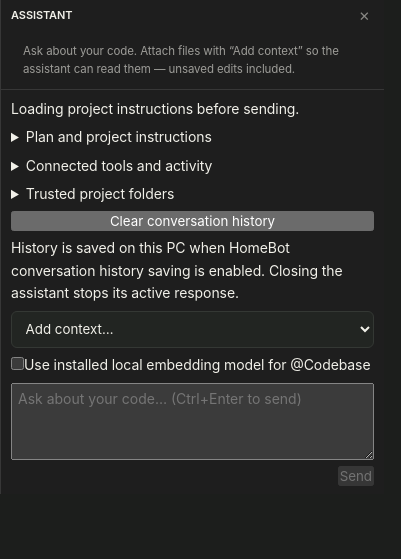
Test: WorkspaceAssistantPanel › attaching the current file sends its editor content (unsaved edits included) and streams the answer
The width and height of the screenshot is (401, 559).
Step 1. Select "@ Current file (app.ts)" in the dropdown named "Add context" → coordinates (192, 329), box x1=11 y1=310 x2=374 y2=348
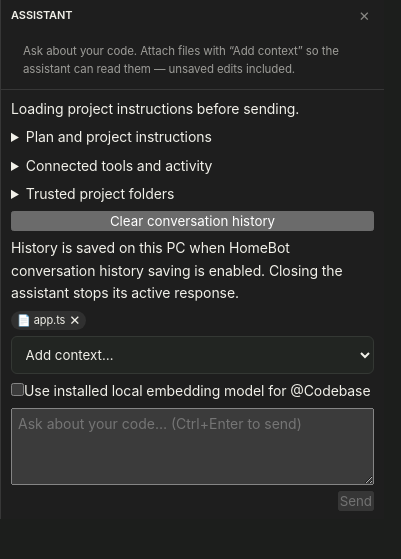
Expected: the list named "Attached context" shows "app.ts", x1=34 y1=312 x2=65 y2=326
Step 2. Type "What does beta do?" into the text box named "Ask the assistant" → coordinates (192, 447), box x1=11 y1=408 x2=374 y2=485
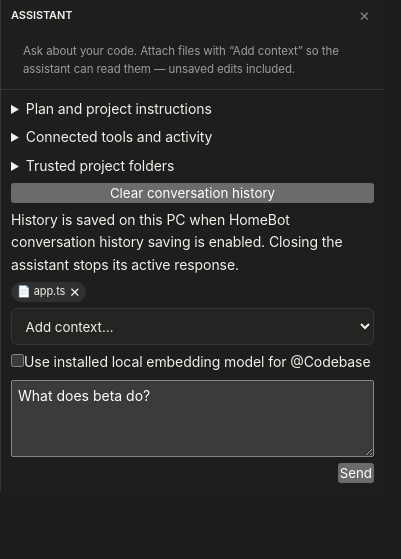
Expected: the button "Send" is enabled
Step 3. Click the button "Send" → coordinates (356, 473), box x1=338 y1=463 x2=374 y2=483
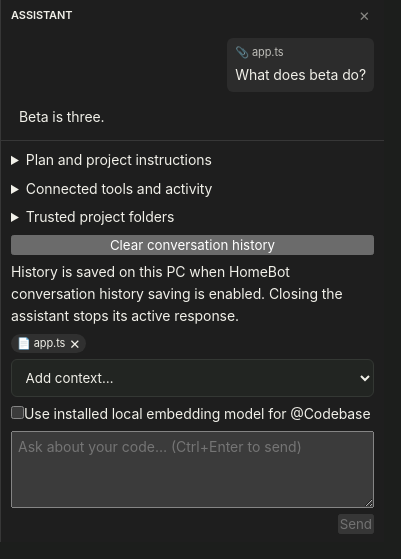
Expected: the button "Send" is shown, x1=338 y1=514 x2=374 y2=534
Expected: the element named "Assistant conversation" shows "Beta is three.", x1=19 y1=108 x2=105 y2=125
